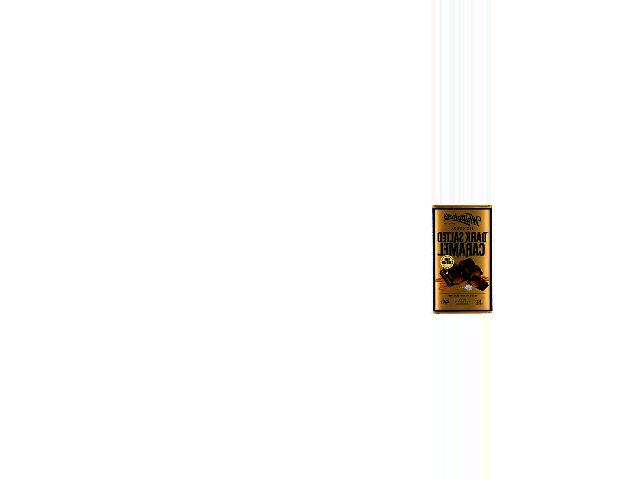chocolate: (427, 206, 494, 316)
